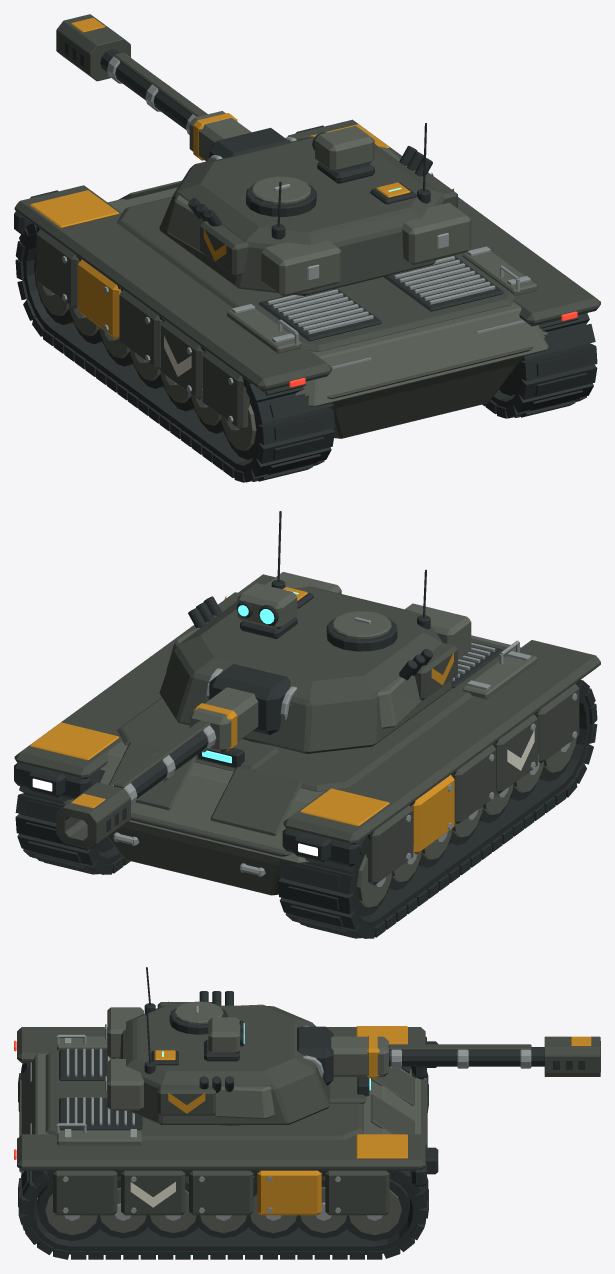
Rendered from bastion_tank_v1.glb.
The picture shows the model from 3 angles, top to bottom: view 1: azimuth 30°, elevation 25°; view 2: azimuth 150°, elevation 25°; view 3: azimuth 270°, elevation 25°; orthographic projection. The views are drawn at different scales.
Parts seen in each view (by area): view 1: HullMesh, TurretMesh, TrackLeftMesh, BarrelMesh, TrackRightMesh; view 2: HullMesh, TurretMesh, BarrelMesh, TrackLeftMesh, TrackRightMesh; view 3: HullMesh, TurretMesh, BarrelMesh, TrackRightMesh.
Boxes of the visible parts, box(x1,y1,x2,y2) form: HullMesh: box(14, 119, 600, 472); TurretMesh: box(159, 126, 471, 296); TrackLeftMesh: box(15, 223, 334, 482); BarrelMesh: box(56, 14, 296, 161); TrackRightMesh: box(482, 313, 597, 418); HullMesh: box(14, 574, 600, 928); TurretMesh: box(159, 572, 471, 753); BarrelMesh: box(56, 664, 296, 849); TrackLeftMesh: box(278, 680, 597, 938); TrackRightMesh: box(15, 769, 130, 874); HullMesh: box(14, 1026, 439, 1254); TurretMesh: box(105, 991, 329, 1125); BarrelMesh: box(297, 1025, 600, 1085); TrackRightMesh: box(18, 1170, 428, 1259).
Size of the model in its own units: 4.38 by 3.2 by 7.85.
